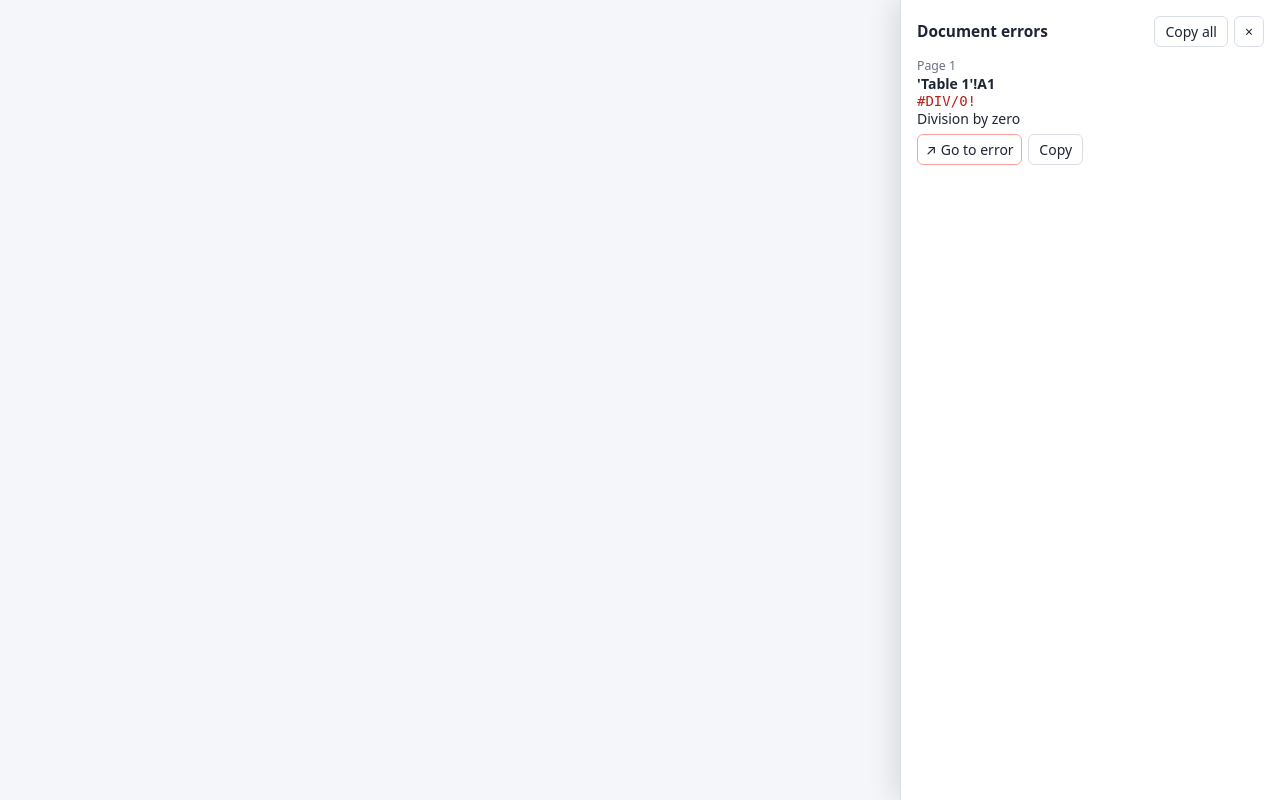
Test: uses a hidden textarea when the Clipboard API is unavailable
Click the button with class "errors__copy": [1056, 149] box [1028,134,1083,165]
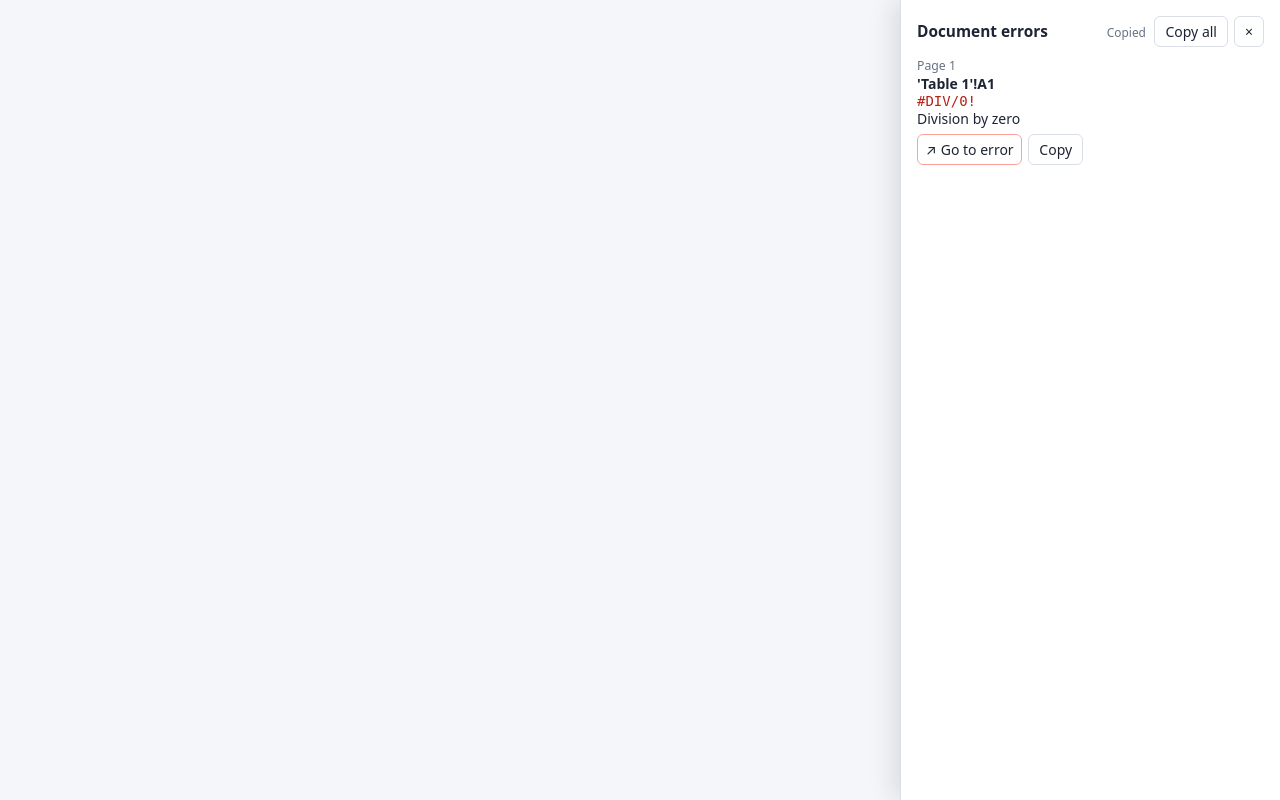
expect the message "Copied" is shown: met, box [1107,24,1148,40]
